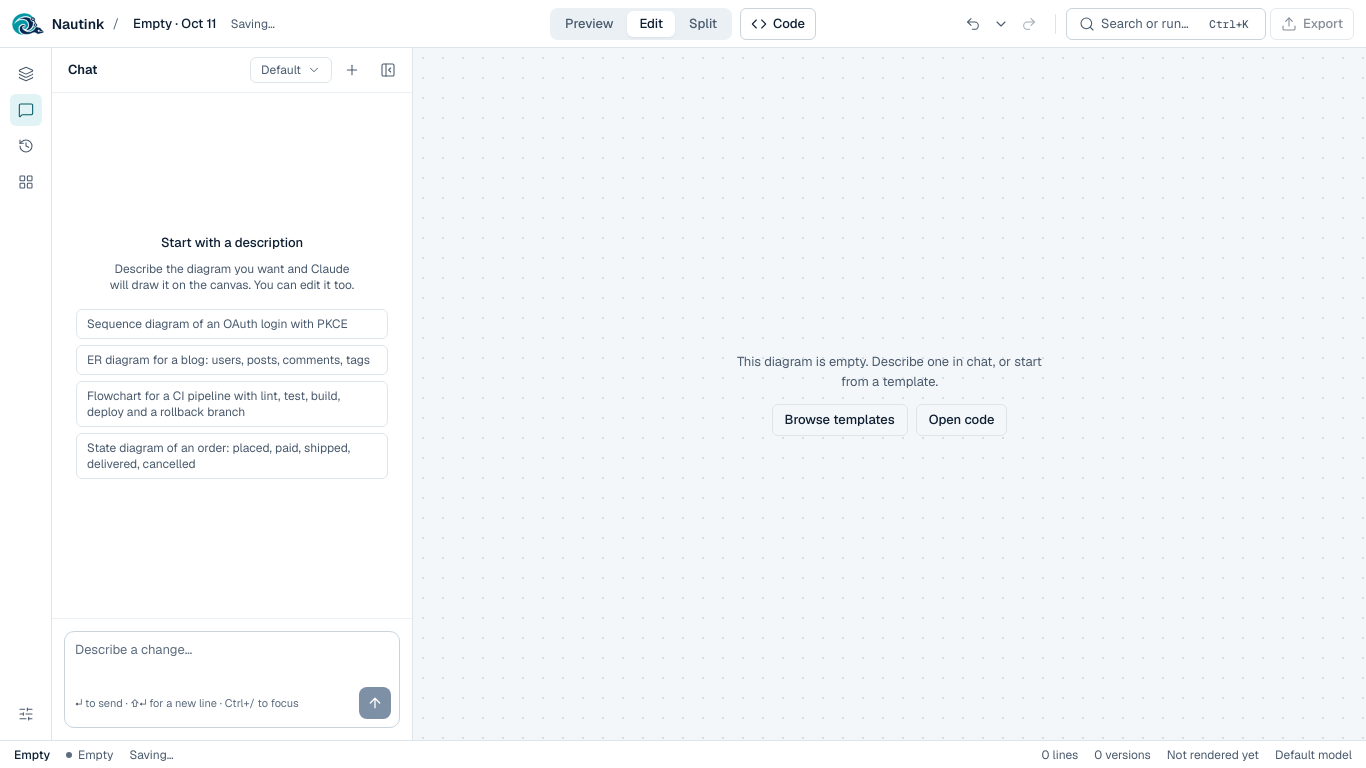
canvas views for a type without a visual editor › invites an empty diagram to start from a template
Click the button "Browse templates".
click(840, 420)  # box [772,404,908,436]
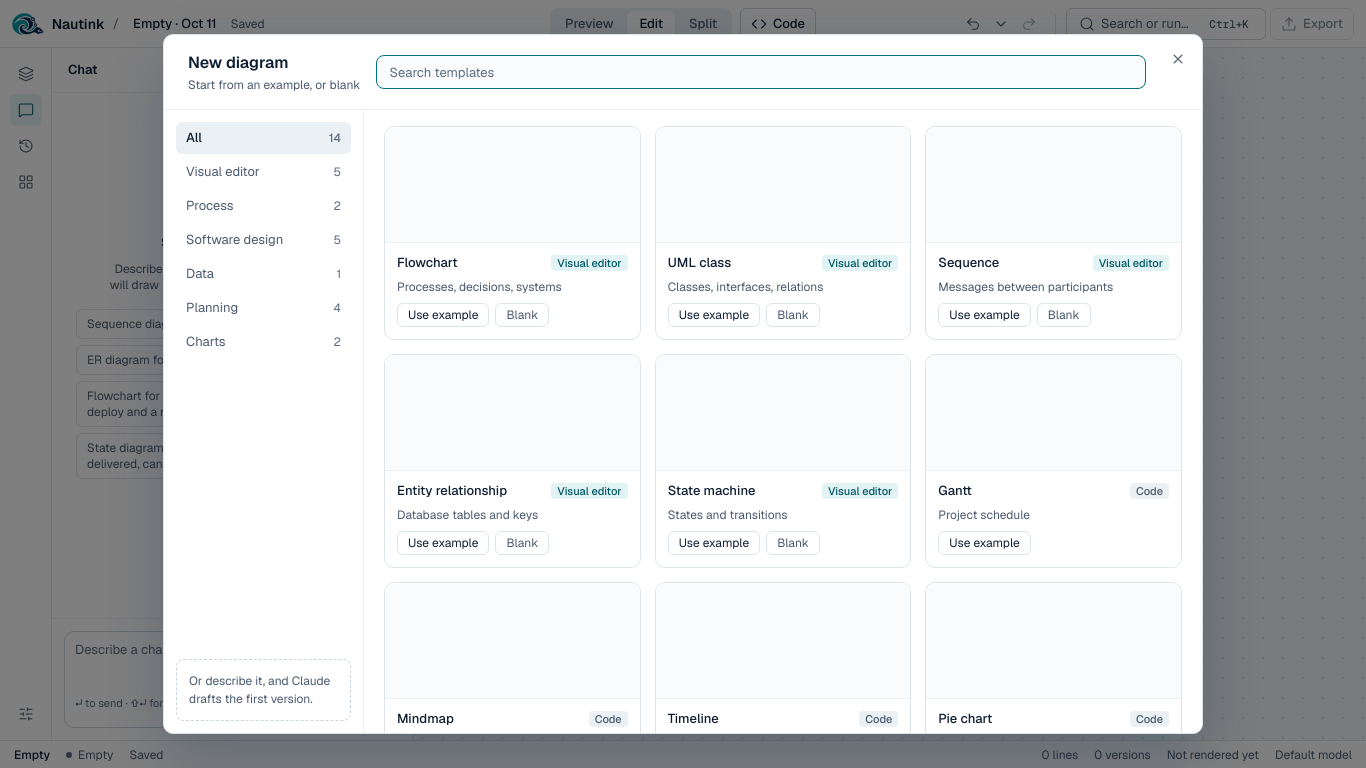
Result: the dialog "New diagram" is shown
